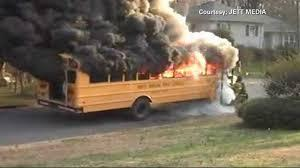fire: (151, 51, 221, 80)
smoke: (0, 0, 239, 84), (190, 77, 245, 116)
